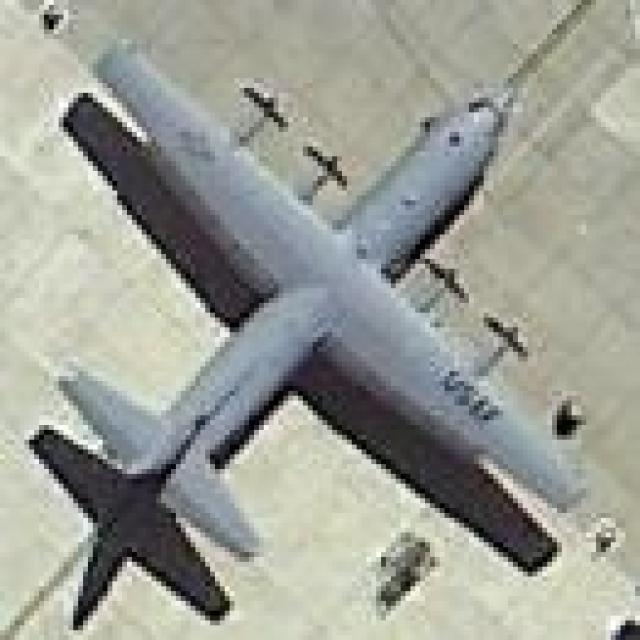C-130_TopDown: (32, 34, 591, 632)
